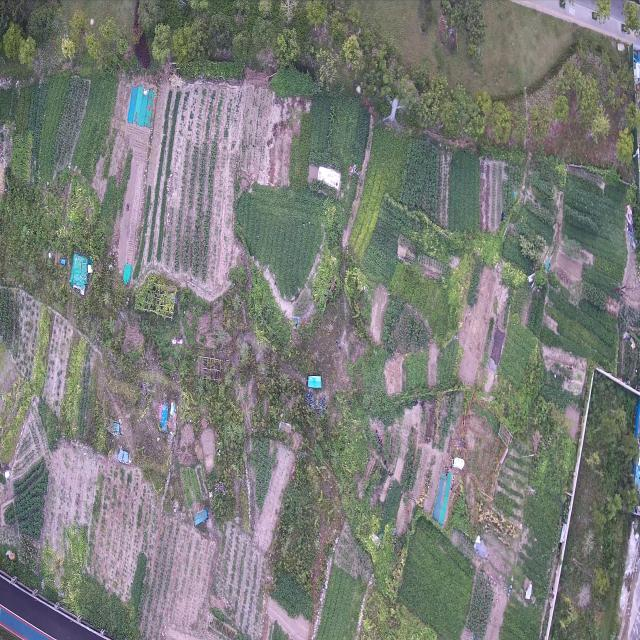UAV: (380, 94, 408, 133)
